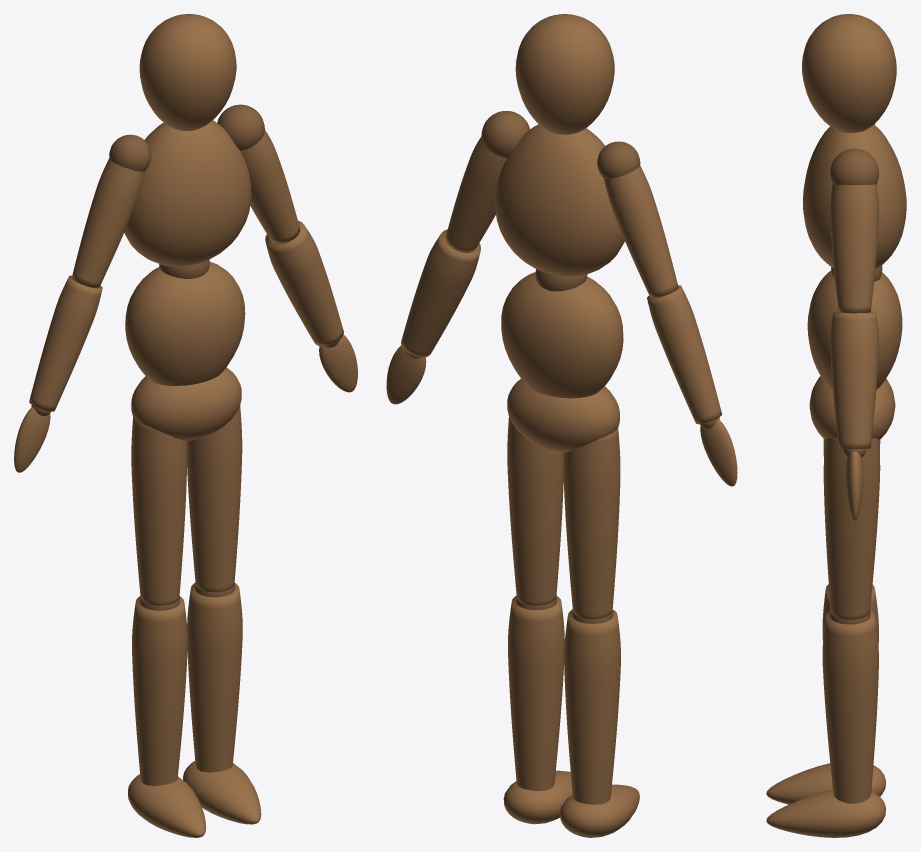
File: mannequin-rest-smooth.glb
The picture shows the model from 3 angles, left to right: view 1: azimuth 30°, elevation 25°; view 2: azimuth 150°, elevation 25°; view 3: azimuth 270°, elevation 25°; orthographic projection. The views are drawn at different scales.
Parts seen in each view (by area): view 1: chest, abdomen, head, shin_R, shin_L, thigh_R, thigh_L, pelvis, forearm_L, upper_arm_R, forearm_R, upper_arm_L (+6 smaller); view 2: chest, abdomen, head, shin_R, shin_L, thigh_R, thigh_L, pelvis, forearm_L, upper_arm_R, forearm_R, upper_arm_L (+7 smaller); view 3: shin_L, head, thigh_L, chest, forearm_L, upper_arm_L, abdomen, foot_L, pelvis, foot_R, shoulder_L, hand_L (+1 smaller).
Boxes of the visible parts, x1,y1,x2,y2 form: chest: [124, 120, 251, 266]; abdomen: [125, 261, 245, 385]; head: [139, 14, 236, 130]; shin_R: [132, 596, 187, 785]; shin_L: [187, 582, 242, 772]; thigh_R: [131, 416, 187, 605]; thigh_L: [186, 405, 242, 592]; pelvis: [131, 367, 241, 440]; forearm_L: [265, 220, 343, 346]; upper_arm_R: [72, 158, 144, 288]; forearm_R: [29, 275, 102, 411]; upper_arm_L: [240, 130, 300, 243]; chest: [495, 124, 624, 276]; abdomen: [501, 272, 623, 398]; head: [515, 14, 614, 134]; shin_R: [564, 609, 620, 804]; shin_L: [508, 595, 564, 790]; thigh_R: [563, 427, 620, 619]; thigh_L: [507, 417, 563, 605]; pelvis: [507, 379, 619, 452]; forearm_L: [401, 229, 480, 357]; upper_arm_R: [603, 165, 678, 298]; forearm_R: [647, 285, 721, 424]; upper_arm_L: [445, 136, 506, 252]; shin_L: [822, 610, 878, 803]; head: [802, 14, 896, 132]; thigh_L: [823, 437, 880, 619]; chest: [803, 124, 906, 268]; forearm_L: [830, 311, 878, 448]; upper_arm_L: [830, 184, 878, 313]; abdomen: [807, 270, 902, 389]; foot_L: [766, 790, 886, 837]; pelvis: [809, 376, 895, 439]; foot_R: [766, 763, 885, 804]; shoulder_L: [830, 148, 879, 184]; hand_L: [846, 451, 863, 520].
Size of the model in its own units: 3.74 by 8.26 by 1.31.
